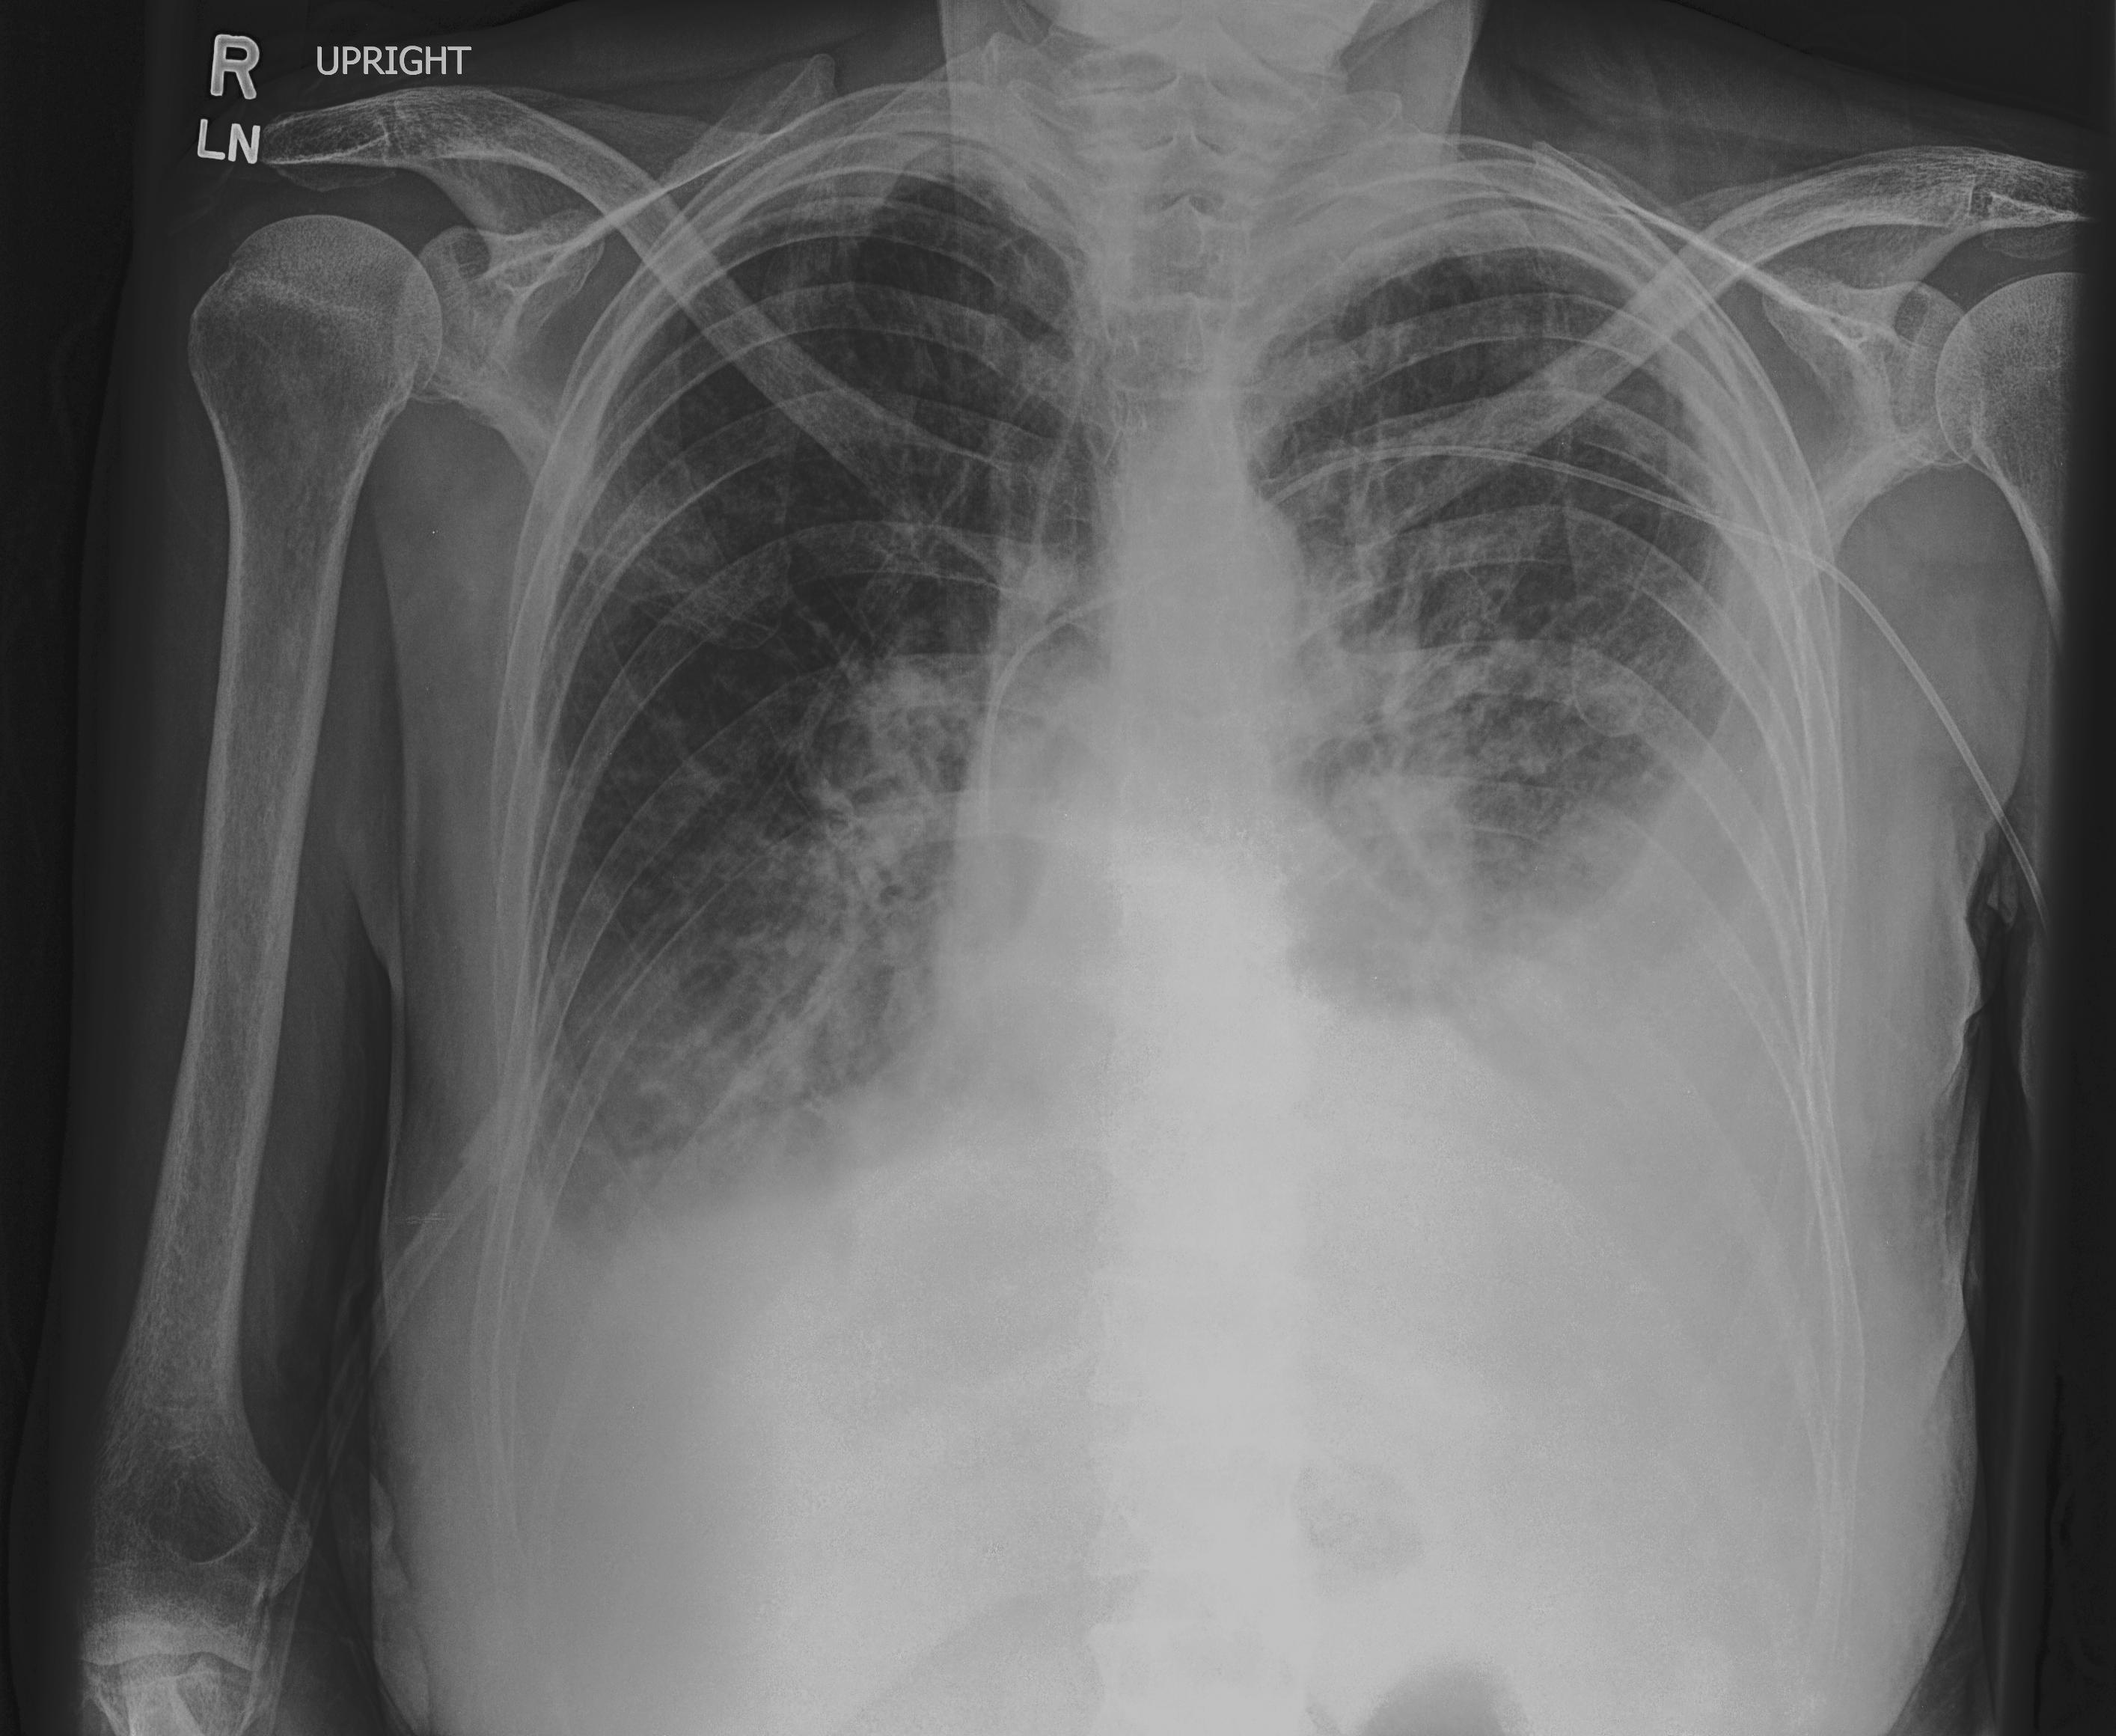Pleural Effusion: (1445, 810, 1907, 1378), (443, 1100, 907, 1529)
